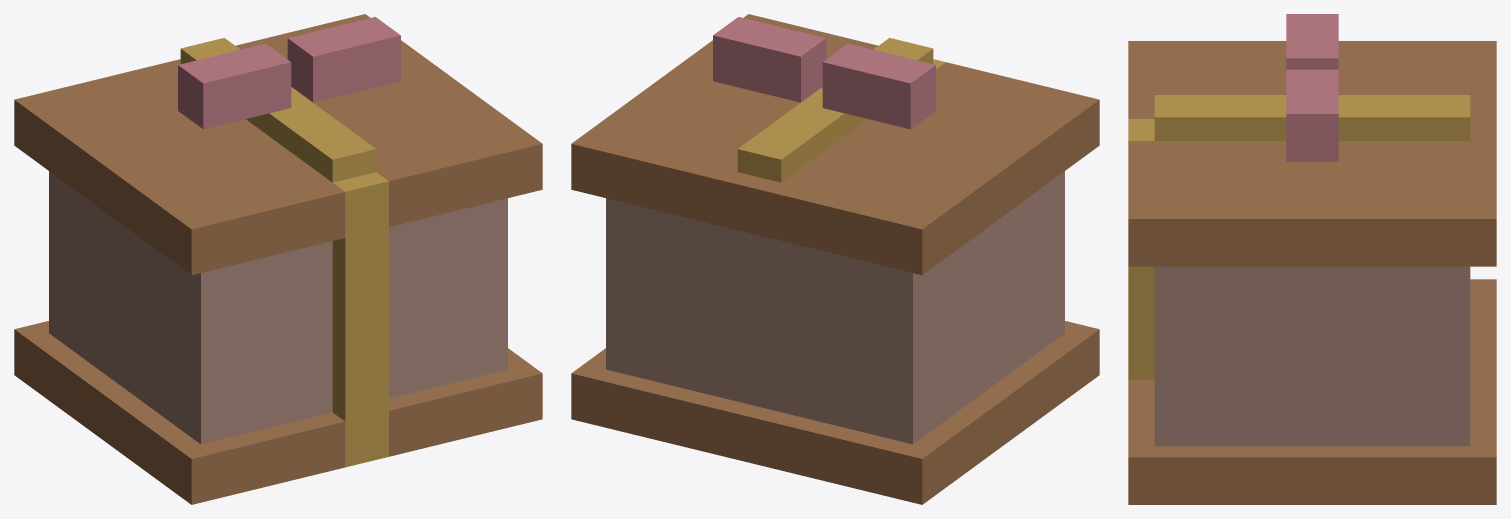
The model's file is hospitality-19.glb.
3 renders of one model, left to right at view 1: azimuth 30°, elevation 25°; view 2: azimuth 150°, elevation 25°; view 3: azimuth 270°, elevation 25°, orthographic. The views are drawn at different scales.
Visible parts, largest first — view 1: Welcome gift; view 2: Welcome gift; view 3: Welcome gift.
Boxes of the visible parts, x1=… form: Welcome gift: x1=14, y1=14, x2=542, y2=504; Welcome gift: x1=571, y1=14, x2=1099, y2=504; Welcome gift: x1=1128, y1=14, x2=1496, y2=504.
Bounding box in the file's own units: 1.28 × 1.2 × 1.12.
